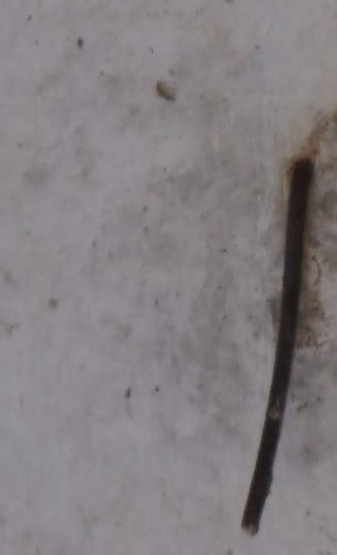Exposed reinforcement: (240, 157, 316, 538)
